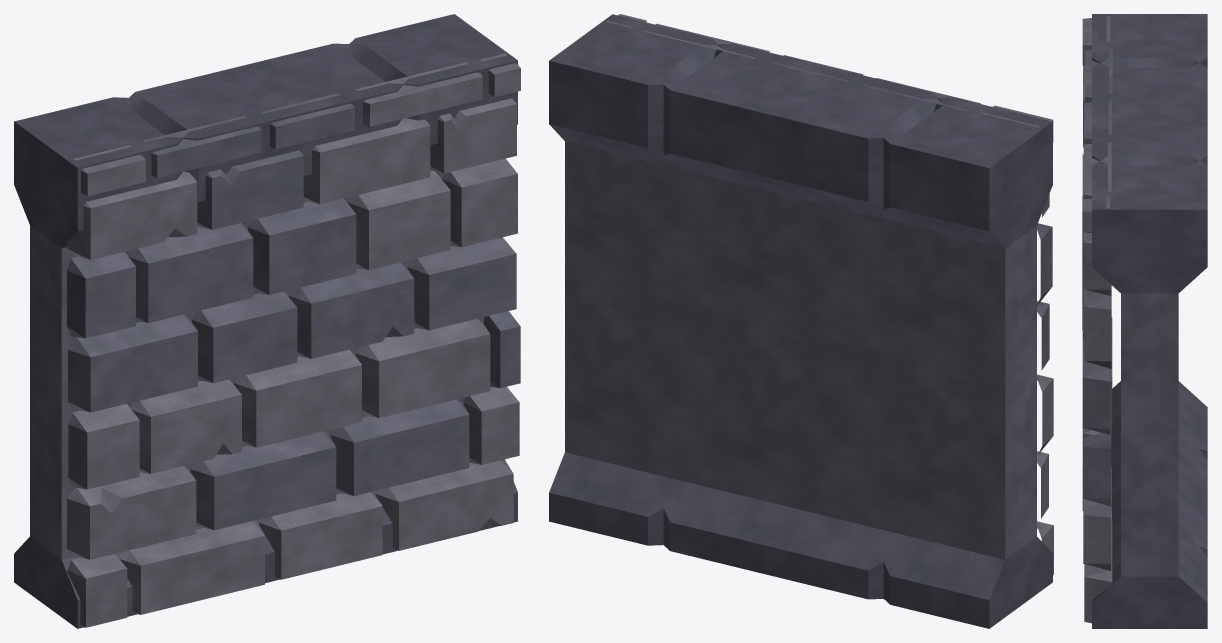
Rendered from ashlar_east.gltf.
3 views of the same model, side by side, from view 1: azimuth 30°, elevation 25°; view 2: azimuth 150°, elevation 25°; view 3: azimuth 270°, elevation 25° (orthographic). The views are drawn at different scales.
Visible parts, largest first — view 1: ashlar_east; view 2: ashlar_east; view 3: ashlar_east.
Part boxes in pixels (left/top/right/bottom): ashlar_east: left=14, top=14, right=520, bottom=628; ashlar_east: left=549, top=14, right=1053, bottom=628; ashlar_east: left=1082, top=14, right=1207, bottom=628.
Bounding box in the file's own units: 4 × 4.04 × 1.08.
Materials: 3 (3 with a texture image).
